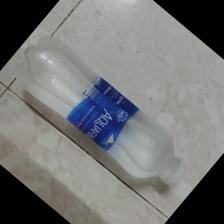Aquafina: (17, 36, 190, 189)
